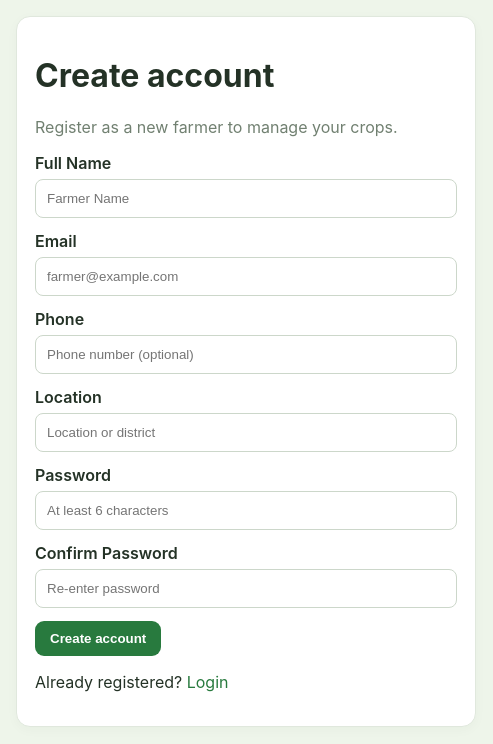
it: Register Component › displays actionable error message on network failure
The width and height of the screenshot is (493, 744).
Step 1. Type "Farmer John" into the field with placeholder "Farmer Name" → (246, 198), box x1=35 y1=179 x2=457 y2=218
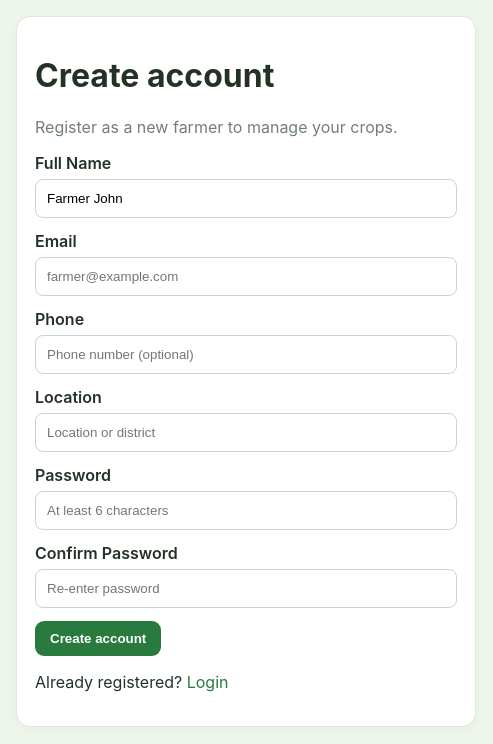
Step 2. Type "john@example.com" into the field with placeholder "farmer@example.com" → (246, 276), box x1=35 y1=257 x2=457 y2=296
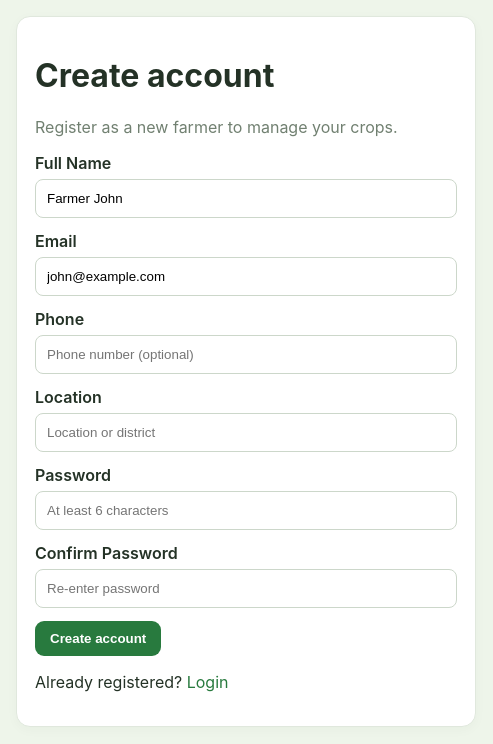
Step 3. Type "password123" into the password field with placeholder "At least 6 characters" → (246, 510), box x1=35 y1=491 x2=457 y2=530
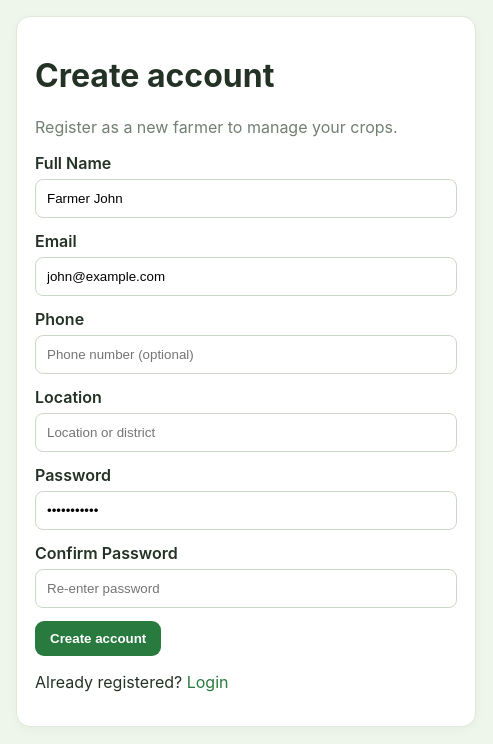
Step 4. Type "password123" into the password field with placeholder "Re-enter password" → (246, 588), box x1=35 y1=569 x2=457 y2=608
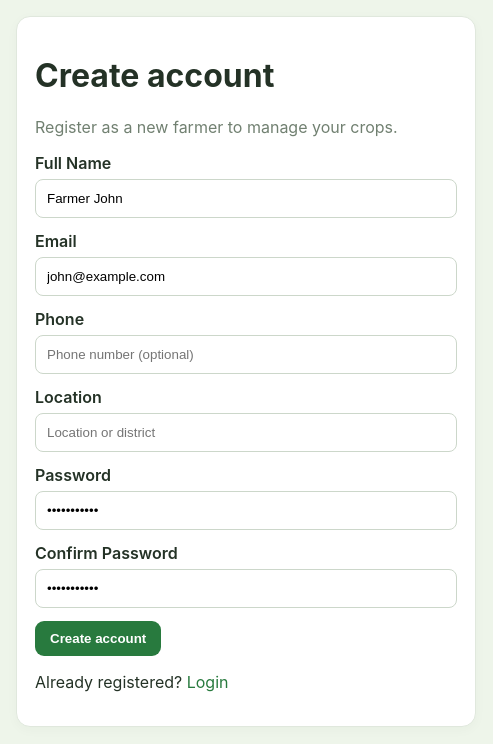
Step 5. Click the button "Create account" → (98, 638), box x1=35 y1=621 x2=161 y2=656
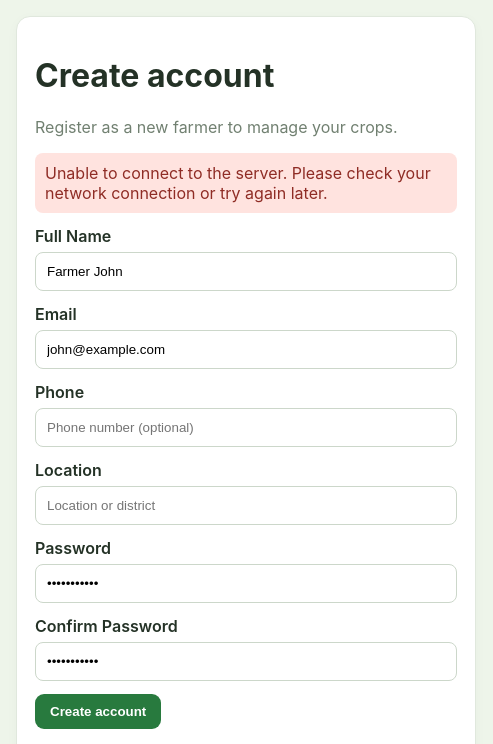
expect the text "Unable to connect to the server. Please check your network connection or try again later." is shown: met, box x1=45 y1=163 x2=431 y2=203
